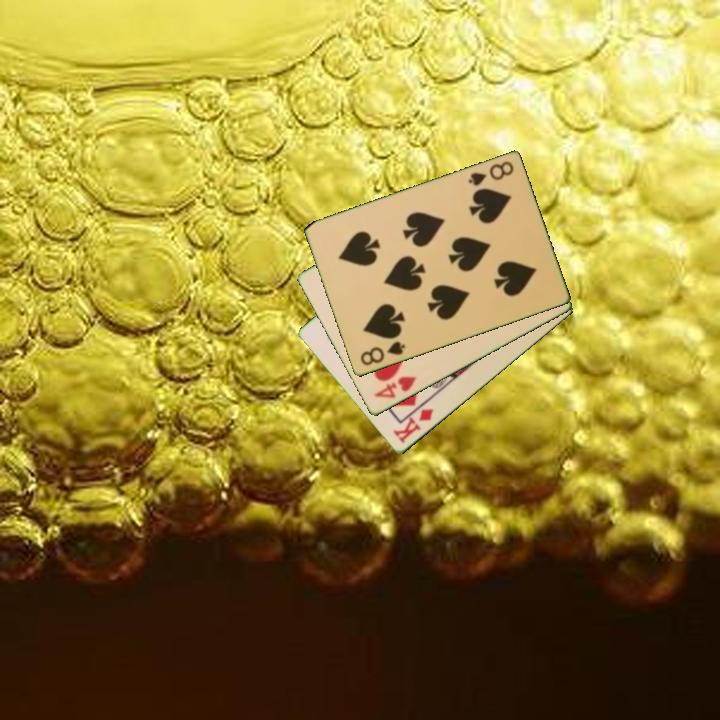4h: (370, 373, 419, 402)
8s: (464, 158, 516, 189), (357, 338, 408, 369)
Kd: (389, 405, 436, 447)
